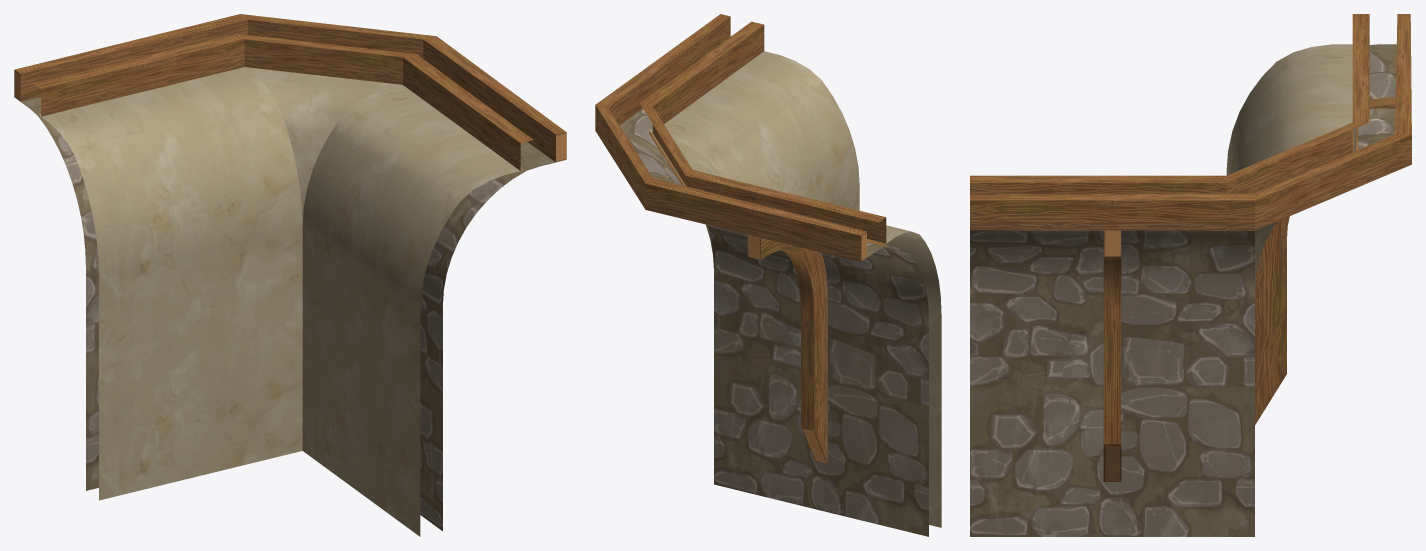
Rendered from Overhang_UnevenBrick_Corner.gltf.
3 renders of one model, left to right at view 1: azimuth 30°, elevation 25°; view 2: azimuth 150°, elevation 25°; view 3: azimuth 270°, elevation 25°, orthographic. The views are drawn at different scales.
Visible parts, largest first — view 1: Overhang_UnevenBrick_Corner; view 2: Overhang_UnevenBrick_Corner; view 3: Overhang_UnevenBrick_Corner.
Part boxes in pixels (left/top/right/bottom): Overhang_UnevenBrick_Corner: left=14, top=14, right=566, bottom=536; Overhang_UnevenBrick_Corner: left=595, top=14, right=941, bottom=536; Overhang_UnevenBrick_Corner: left=970, top=14, right=1411, bottom=536.
Bounding box in the file's own units: 3.1 × 3.12 × 3.1.
Materials: 3 (3 with a texture image).
